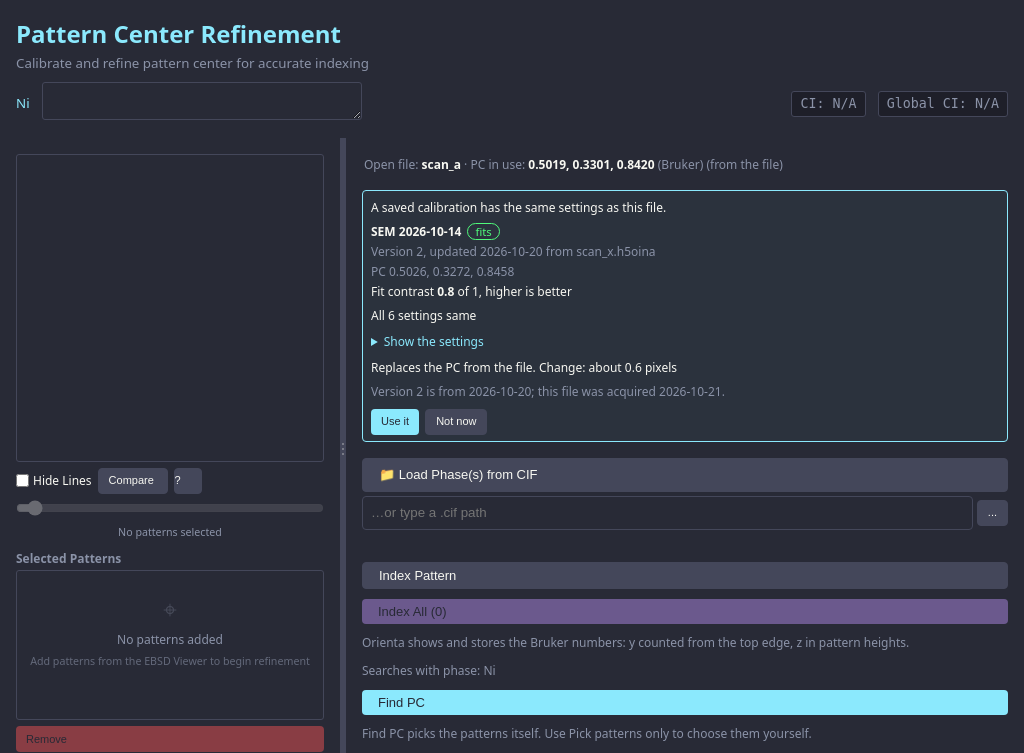
Test: the offer on load › a PC change on the page does not bring a put-off offer back
Click the button "Not now".
click(456, 422)  # box x1=425 y1=409 x2=488 y2=435
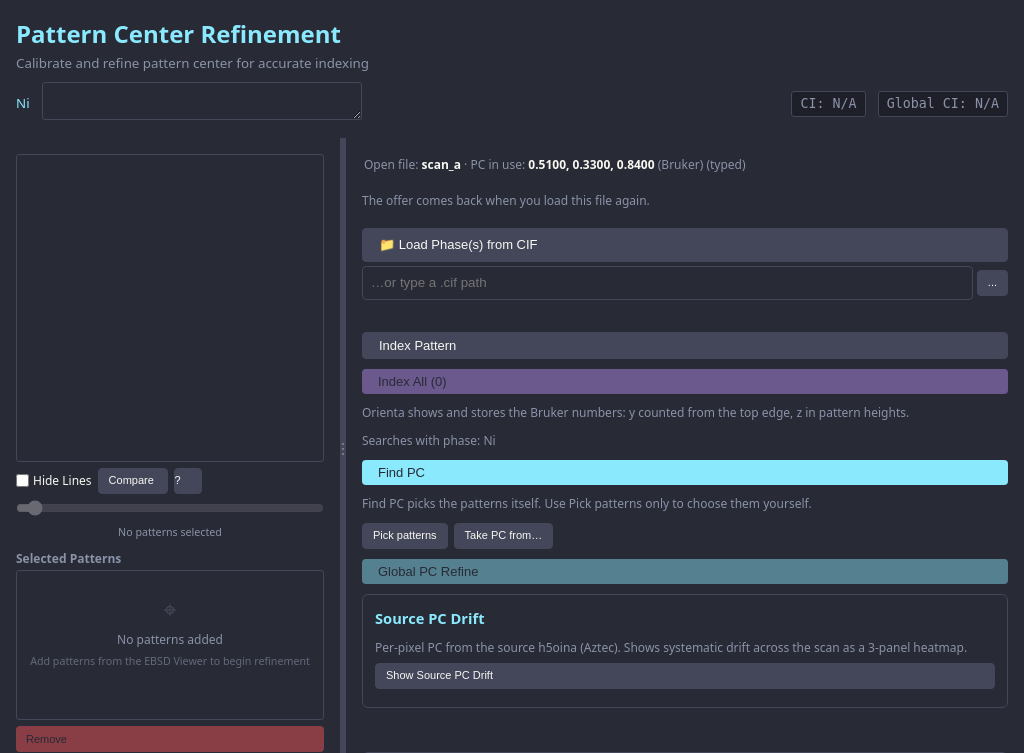
Check: the text with test id "pc-file-head-pc" reads "0.5100, 0.3300, 0.8400", box x1=528 y1=156 x2=655 y2=173
Check: the element with test id "calibration-offer" is gone
